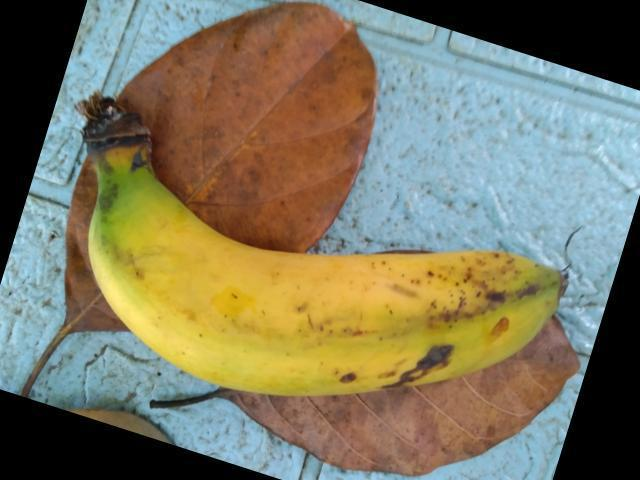ripe: (67, 129, 569, 430)
